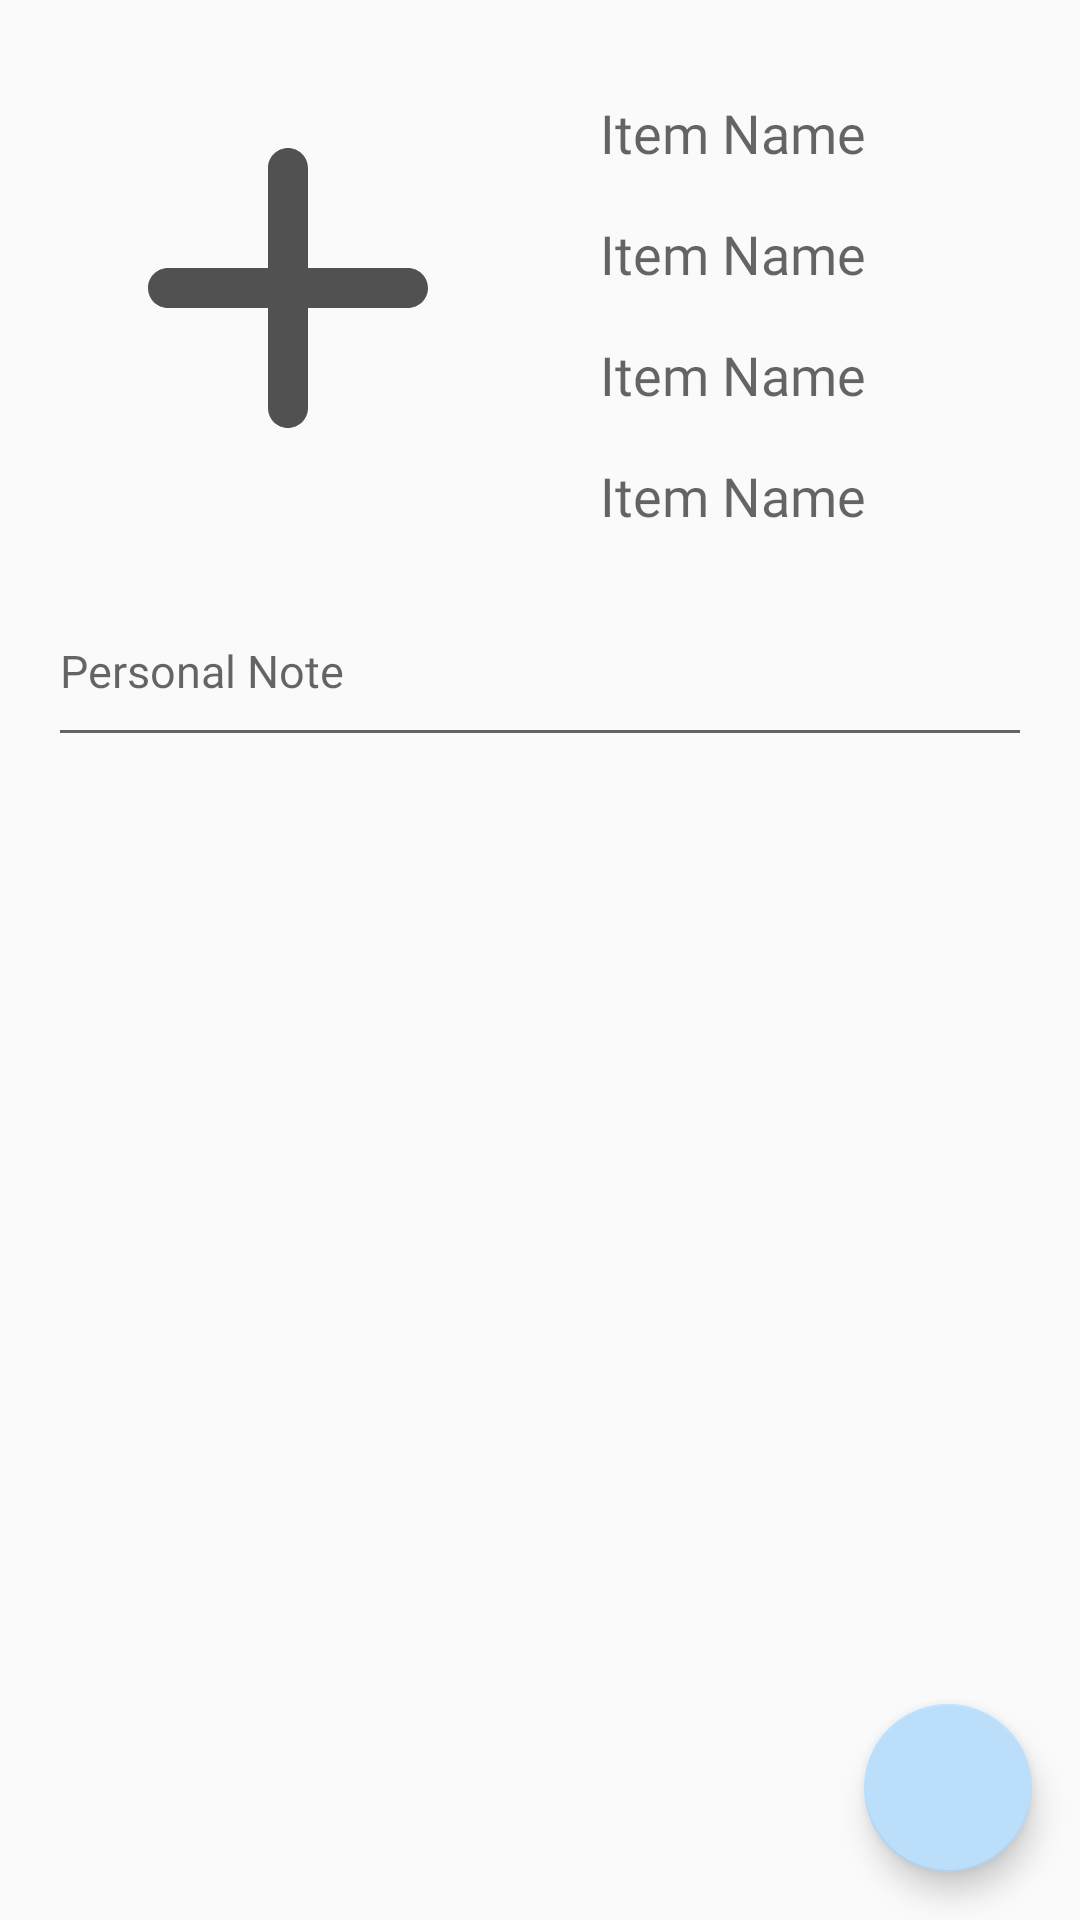

Icon bounding boxes for this 1080 × 1920 phone screenshot, format (x1, y1, x2, y2):
plus: (148, 148, 428, 428)
